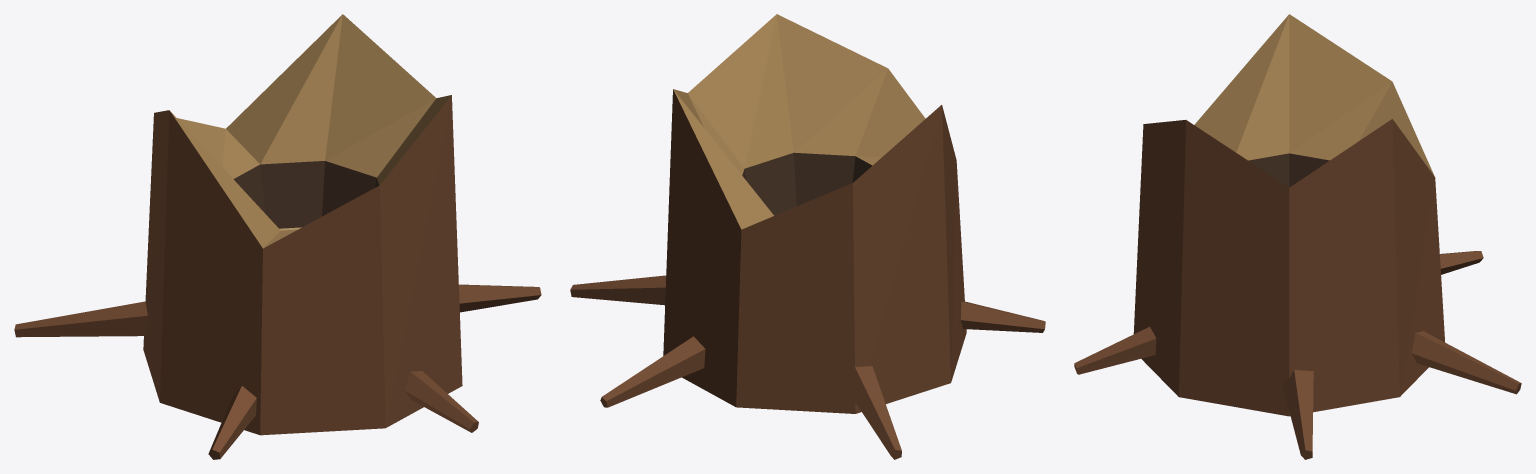
File: Prop_Common_SplinteredStump_001_LOD1.glb
3 renders of one model, left to right at view 1: azimuth 30°, elevation 25°; view 2: azimuth 150°, elevation 25°; view 3: azimuth 270°, elevation 25°, orthographic. The views are drawn at different scales.
Visible parts, largest first — view 1: Prop_Common_SplinteredStump_001_LOD1; view 2: Prop_Common_SplinteredStump_001_LOD1; view 3: Prop_Common_SplinteredStump_001_LOD1.
Boxes of the visible parts, <box> form: Prop_Common_SplinteredStump_001_LOD1: <box>14,14,541,459</box>; Prop_Common_SplinteredStump_001_LOD1: <box>570,14,1045,459</box>; Prop_Common_SplinteredStump_001_LOD1: <box>1074,14,1521,459</box>.
Bounding box in the file's own units: 1.83 × 1.17 × 1.72.
